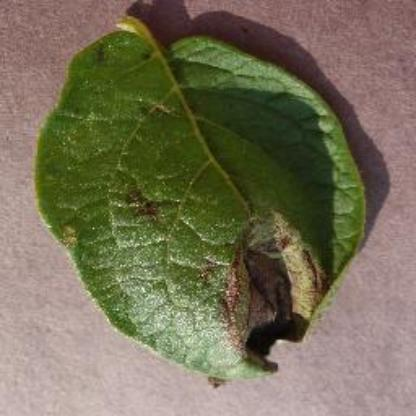Late-Blight: (26, 8, 390, 394)
